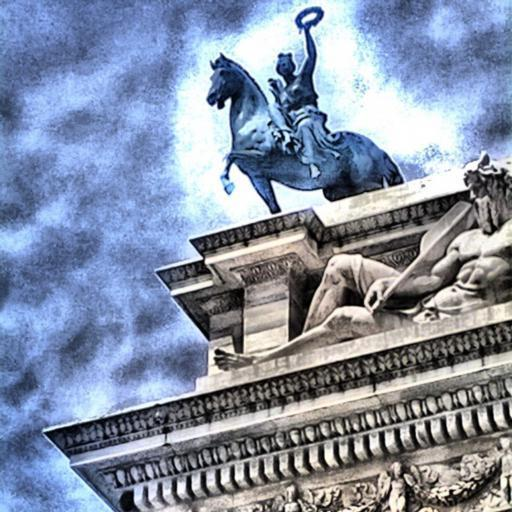horse: (204, 50, 406, 216)
